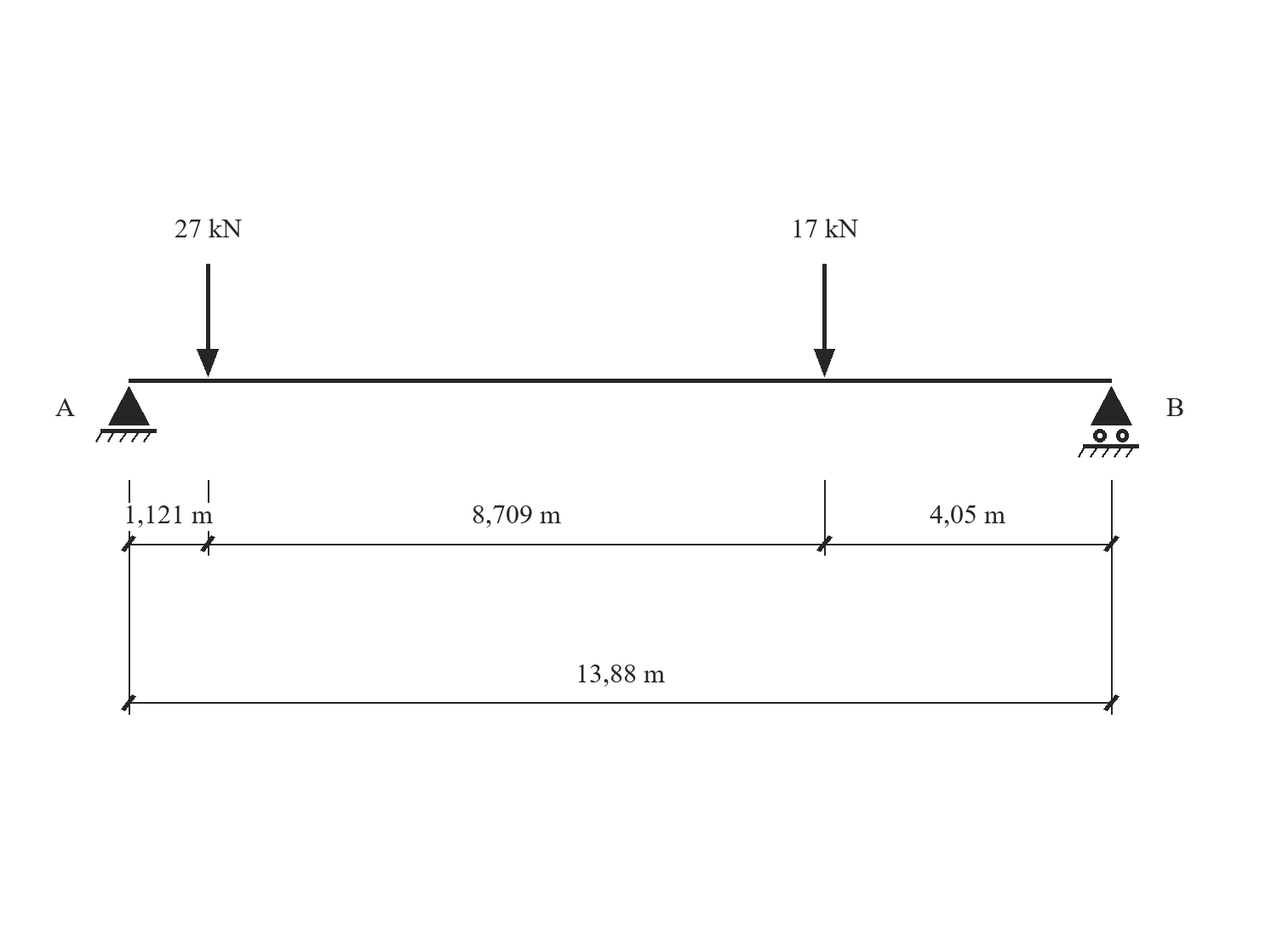pin_support: (95, 386, 157, 442)
point_load: (197, 264, 219, 377), (814, 264, 835, 377)
roller_support: (1078, 386, 1139, 458)
